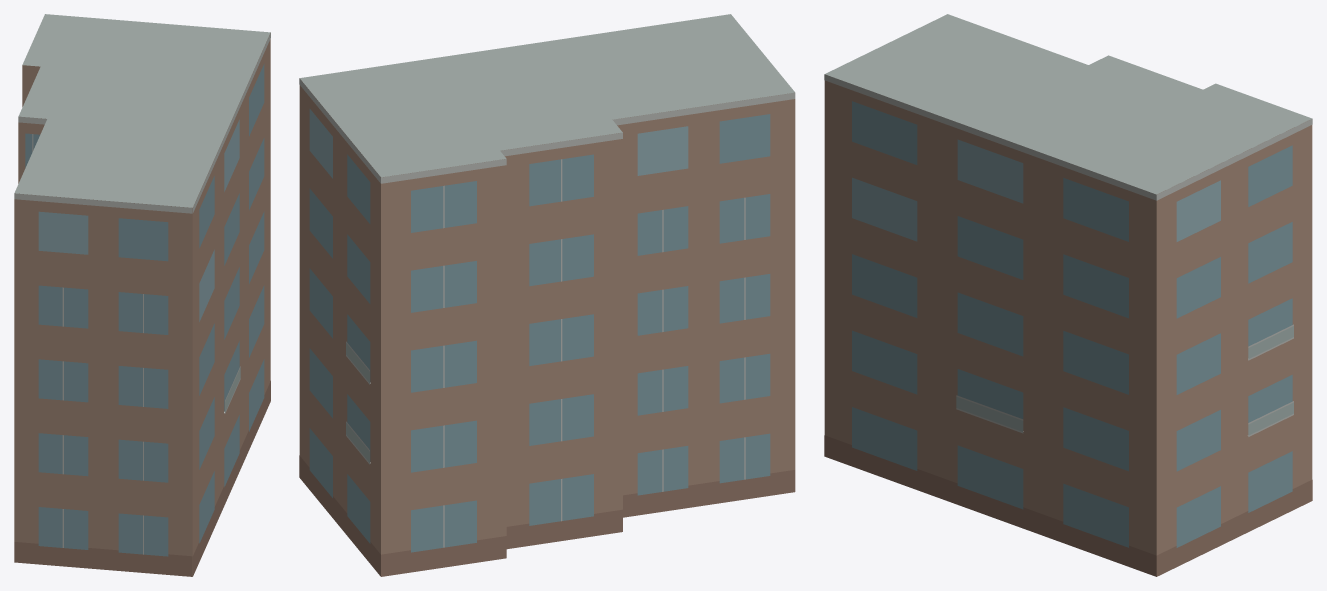
File: survey-upis-32846777.glb
3 renders of one model, left to right at view 1: azimuth 30°, elevation 25°; view 2: azimuth 150°, elevation 25°; view 3: azimuth 270°, elevation 25°, orthographic. The views are drawn at different scales.
Visible parts, largest first — view 1: survey-upis-32846777.tmp; view 2: survey-upis-32846777.tmp; view 3: survey-upis-32846777.tmp.
Part boxes in pixels (box(x1,y1,x2,y2)): survey-upis-32846777.tmp: box(14, 14, 270, 576); survey-upis-32846777.tmp: box(299, 14, 795, 576); survey-upis-32846777.tmp: box(824, 14, 1312, 576).
Bounding box in the file's own units: 15.46 × 15.25 × 17.65.
